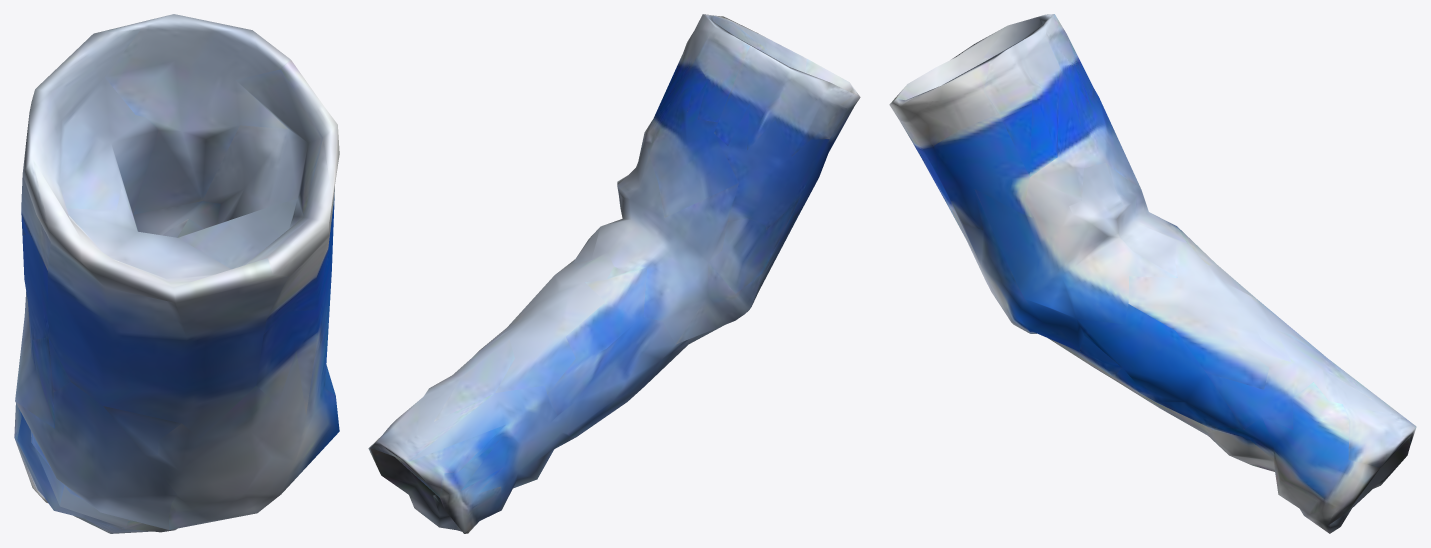
File: manguito.glb
3 renders of one model, left to right at view 1: azimuth 30°, elevation 25°; view 2: azimuth 150°, elevation 25°; view 3: azimuth 270°, elevation 25°, orthographic. The views are drawn at different scales.
Visible parts, largest first — view 1: tripo_node_b5775f98-9fd6-4973-989b-ba65e0e9d207; view 2: tripo_node_b5775f98-9fd6-4973-989b-ba65e0e9d207; view 3: tripo_node_b5775f98-9fd6-4973-989b-ba65e0e9d207.
Boxes of the visible parts, x1,y1,x2,y2 form: tripo_node_b5775f98-9fd6-4973-989b-ba65e0e9d207: (14,14,339,533); tripo_node_b5775f98-9fd6-4973-989b-ba65e0e9d207: (368,14,860,533); tripo_node_b5775f98-9fd6-4973-989b-ba65e0e9d207: (889,14,1416,533).
Size of the model in its own units: 0.6575 by 0.9067 by 1.
1 material, 1 textured.
